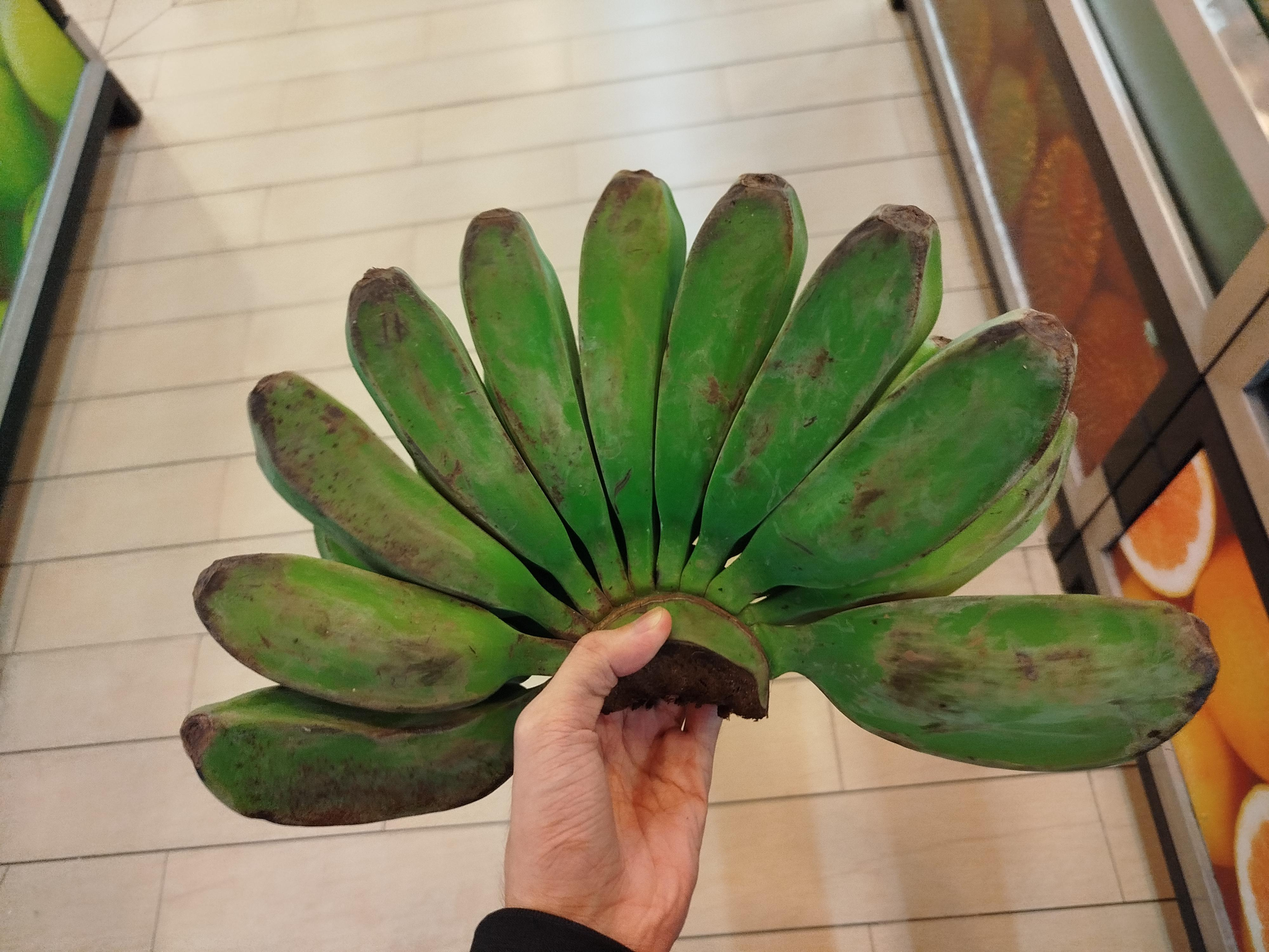underripe: (182, 171, 1219, 826)
